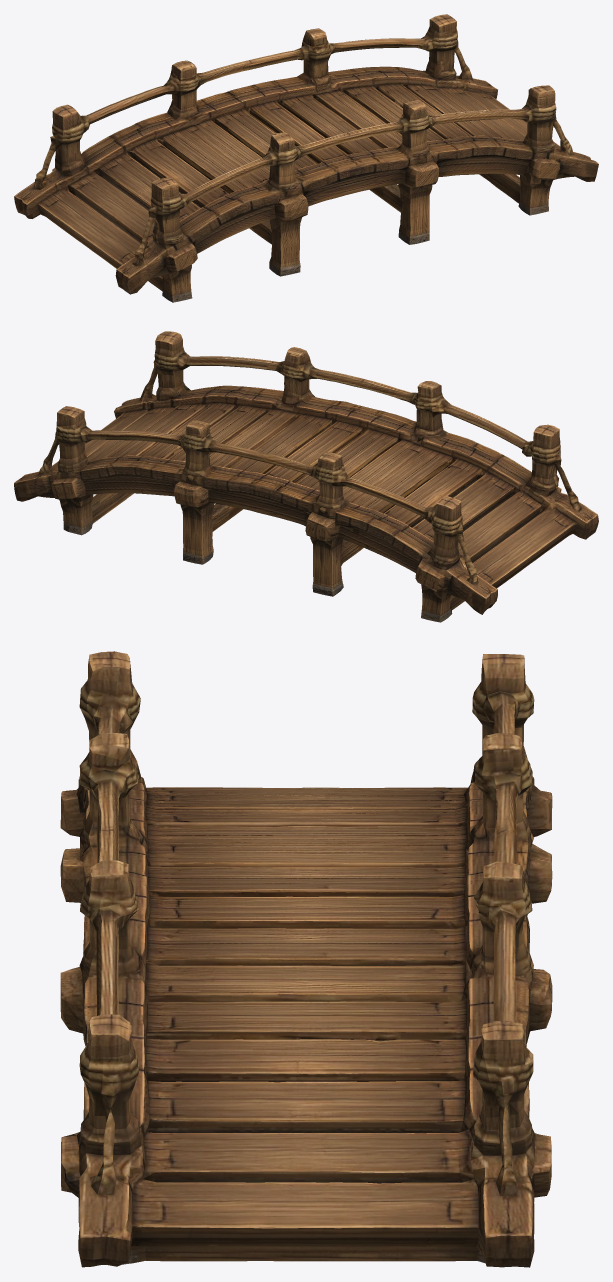
3 views of the same model, one above another, from view 1: azimuth 30°, elevation 25°; view 2: azimuth 150°, elevation 25°; view 3: azimuth 270°, elevation 25° (orthographic). The views are drawn at different scales.
Parts seen in each view (by area): view 1: obj1; view 2: obj1; view 3: obj1.
Boxes of the visible parts, left/top/right/bottom form: obj1: left=14, top=14, right=598, bottom=302; obj1: left=14, top=331, right=598, bottom=622; obj1: left=60, top=651, right=552, bottom=1267.
Bounding box in the file's own units: 191 × 52.39 × 86.01.
1 material, 1 textured.
